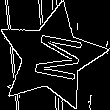M_W: (22, 30, 81, 85)
